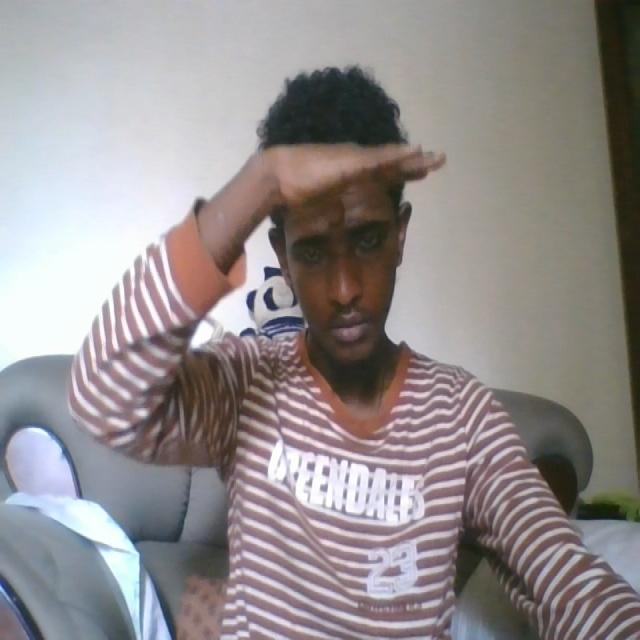abat: (250, 124, 449, 217)
